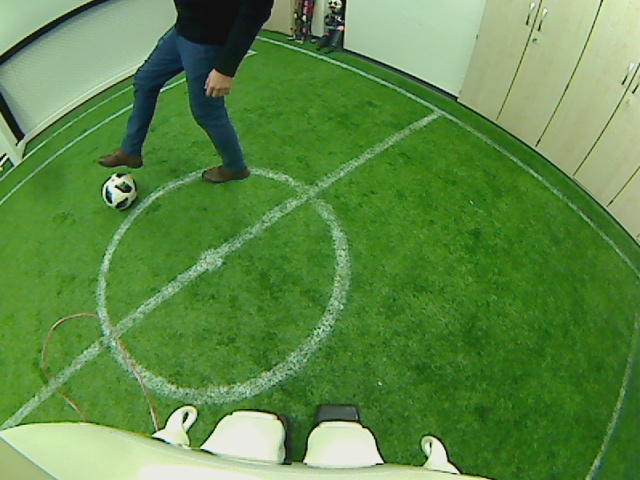ball: (100, 172, 138, 210)
